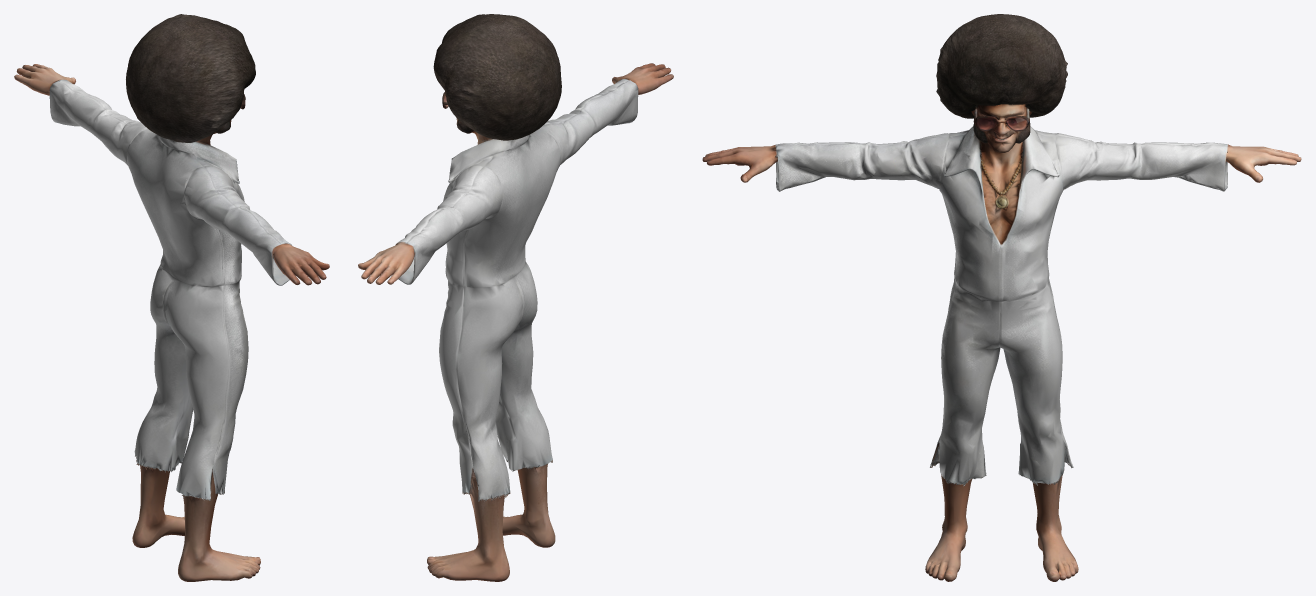
Rendered from the-disco.glb.
3 renders of one model, left to right at view 1: azimuth 30°, elevation 25°; view 2: azimuth 150°, elevation 25°; view 3: azimuth 270°, elevation 25°, orthographic.
Parts seen in each view (by area): view 1: 18-disco; view 2: 18-disco; view 3: 18-disco.
Boxes of the visible parts, left/top/right/bottom form: 18-disco: left=14, top=14, right=329, bottom=581; 18-disco: left=358, top=14, right=673, bottom=581; 18-disco: left=702, top=14, right=1301, bottom=581.
Size of the model in its own units: 0.212 by 0.979 by 0.9775.
1 material, 1 textured.
